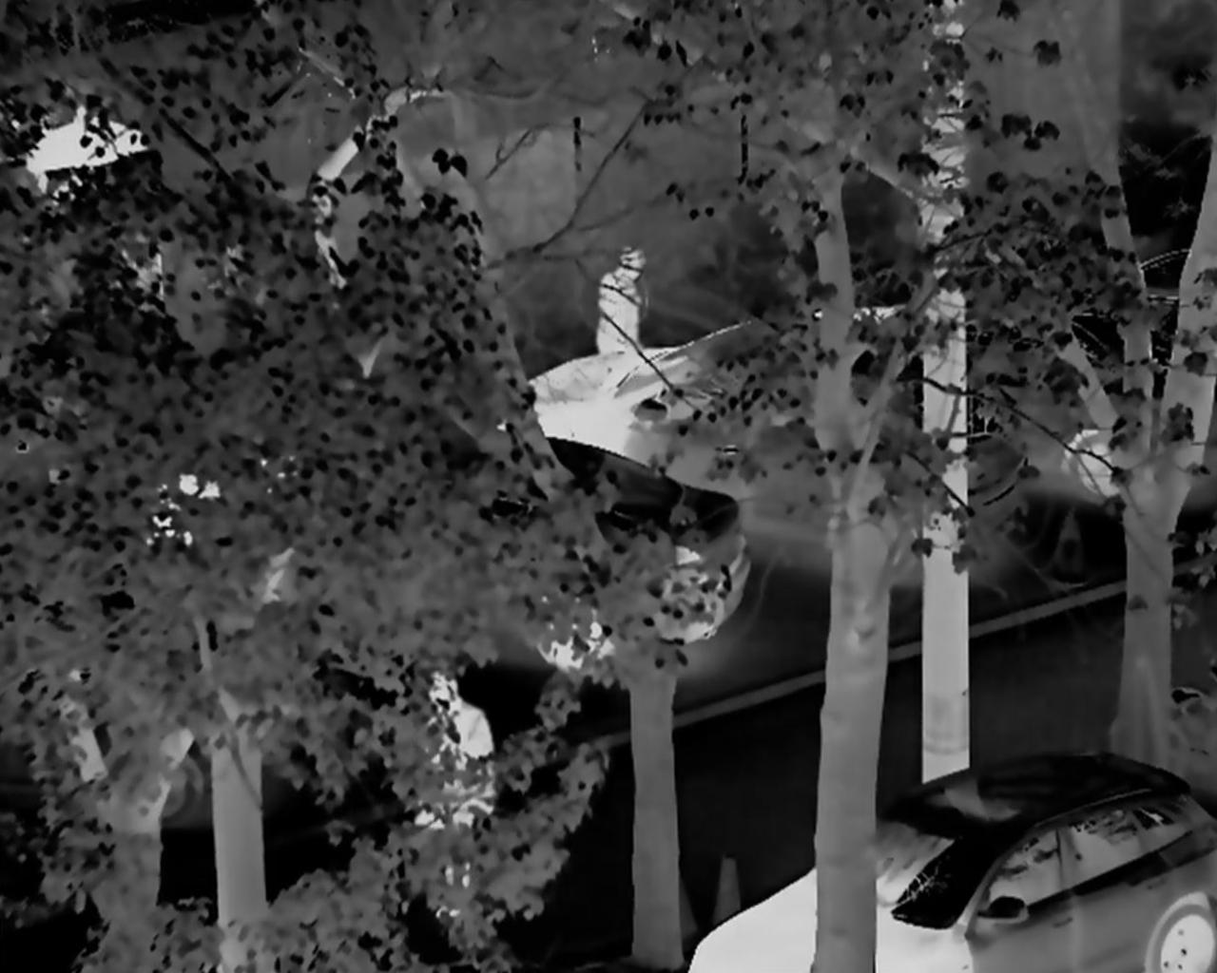person: (407, 665, 493, 893), (589, 244, 646, 352)
